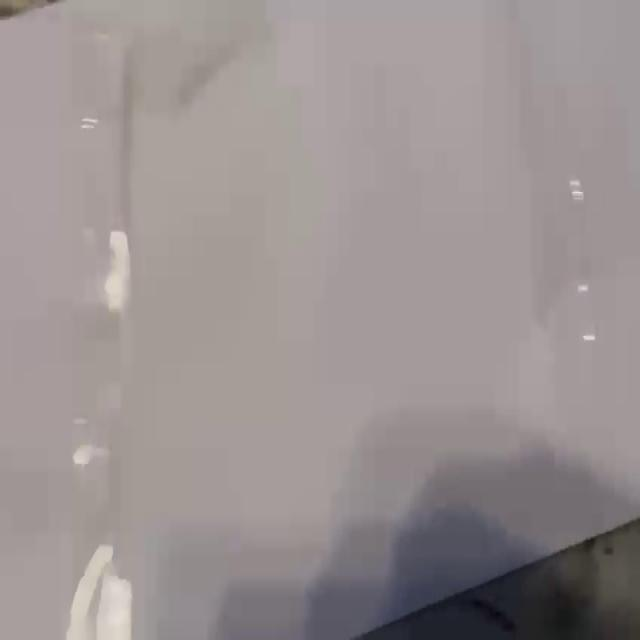road: (0, 0, 640, 639)
